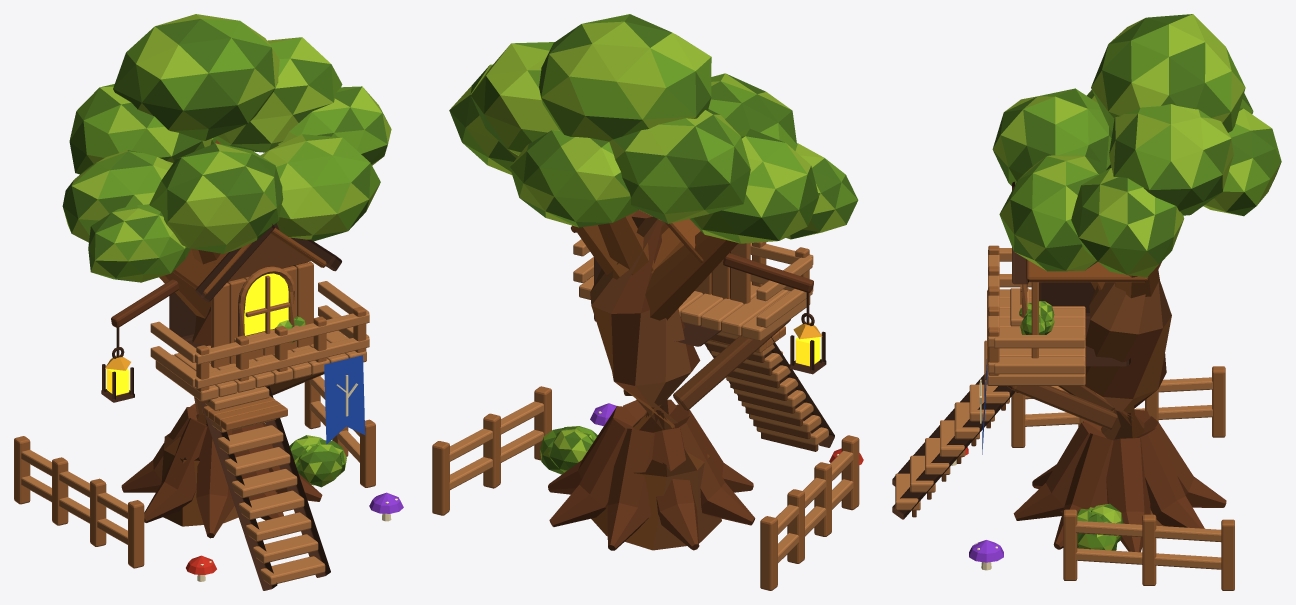
Rendered from tree_house.glb.
3 views of the same model, side by side, from view 1: azimuth 30°, elevation 25°; view 2: azimuth 150°, elevation 25°; view 3: azimuth 270°, elevation 25° (orthographic). The views are drawn at different scales.
Parts seen in each view (by area): view 1: Faceted broadleaf crown.002, Faceted broadleaf crown.006, Faceted broadleaf crown.005, Faceted broadleaf crown.003, Faceted broadleaf crown.001, Faceted broadleaf crown.007, Faceted broadleaf crown, Faceted broadleaf crown.004, Spreading tree root.004, Blue treehouse banner, Spreading tree root.005, Balcony front rail.001 (+44 smaller); view 2: Faceted broadleaf crown.002, Ancient hollow tree, Faceted broadleaf crown.001, Faceted broadleaf crown.008, Faceted broadleaf crown, Faceted broadleaf crown.003, Spreading tree root.002, Twisting canopy branch, Faceted broadleaf crown.006, Spreading tree root.003, Spreading tree root.001, Faceted broadleaf crown.007 (+33 smaller); view 3: Faceted broadleaf crown.002, Faceted broadleaf crown.003, Ancient hollow tree, Faceted broadleaf crown.004, Faceted broadleaf crown.005, Faceted broadleaf crown.006, Faceted broadleaf crown.008, Spreading tree root, Spreading tree root.001, Spreading tree root.007, Spreading tree root.006, Treehouse room (+30 smaller).
Boxes of the visible parts, bbox=[...] form: Faceted broadleaf crown.002: bbox=[113, 14, 279, 140]; Faceted broadleaf crown.006: bbox=[149, 143, 283, 253]; Faceted broadleaf crown.005: bbox=[260, 134, 380, 241]; Faceted broadleaf crown.003: bbox=[214, 37, 342, 152]; Faceted broadleaf crown.001: bbox=[69, 84, 211, 174]; Faceted broadleaf crown.007: bbox=[88, 204, 190, 282]; Faceted broadleaf crown: bbox=[62, 150, 172, 242]; Faceted broadleaf crown.004: bbox=[272, 86, 391, 165]; Spreading tree root.004: bbox=[144, 418, 207, 522]; Blue treehouse banner: bbox=[324, 355, 365, 444]; Spreading tree root.005: bbox=[196, 426, 234, 538]; Balcony front rail.001: bbox=[194, 312, 369, 364]; Faceted broadleaf crown.002: bbox=[539, 14, 711, 141]; Ancient hollow tree: bbox=[590, 210, 721, 550]; Faceted broadleaf crown.001: bbox=[609, 109, 750, 223]; Faceted broadleaf crown.008: bbox=[510, 130, 638, 227]; Faceted broadleaf crown: bbox=[690, 128, 818, 243]; Faceted broadleaf crown.003: bbox=[471, 42, 558, 155]; Spreading tree root.002: bbox=[607, 428, 654, 550]; Twisting canopy branch: bbox=[645, 231, 737, 320]; Faceted broadleaf crown.006: bbox=[708, 73, 796, 144]; Spreading tree root.003: bbox=[652, 427, 699, 550]; Spreading tree root.001: bbox=[549, 418, 634, 526]; Faceted broadleaf crown.007: bbox=[786, 143, 858, 239]; Faceted broadleaf crown.002: bbox=[1091, 14, 1245, 132]; Faceted broadleaf crown.003: bbox=[1109, 104, 1233, 215]; Ancient hollow tree: bbox=[1060, 282, 1171, 526]; Faceted broadleaf crown.004: bbox=[1071, 167, 1184, 277]; Faceted broadleaf crown.005: bbox=[999, 155, 1106, 271]; Faceted broadleaf crown.006: bbox=[992, 88, 1112, 185]; Faceted broadleaf crown.008: bbox=[1203, 108, 1281, 216]; Spreading tree root: bbox=[1106, 438, 1150, 552]; Spreading tree root.001: bbox=[1135, 428, 1204, 528]; Spreading tree root.007: bbox=[1053, 433, 1113, 549]; Spreading tree root.006: bbox=[1013, 422, 1106, 520]; Treehouse room: bbox=[1039, 282, 1130, 366].
Size of the model in its own units: 3.84 by 5.25 by 3.67.
